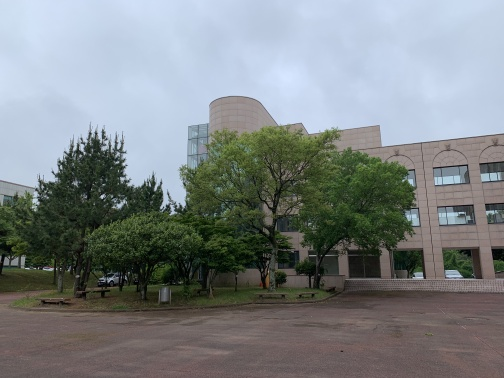Joint Experimental Labs: (174, 89, 277, 176)
Second Library: (1, 178, 39, 209)
